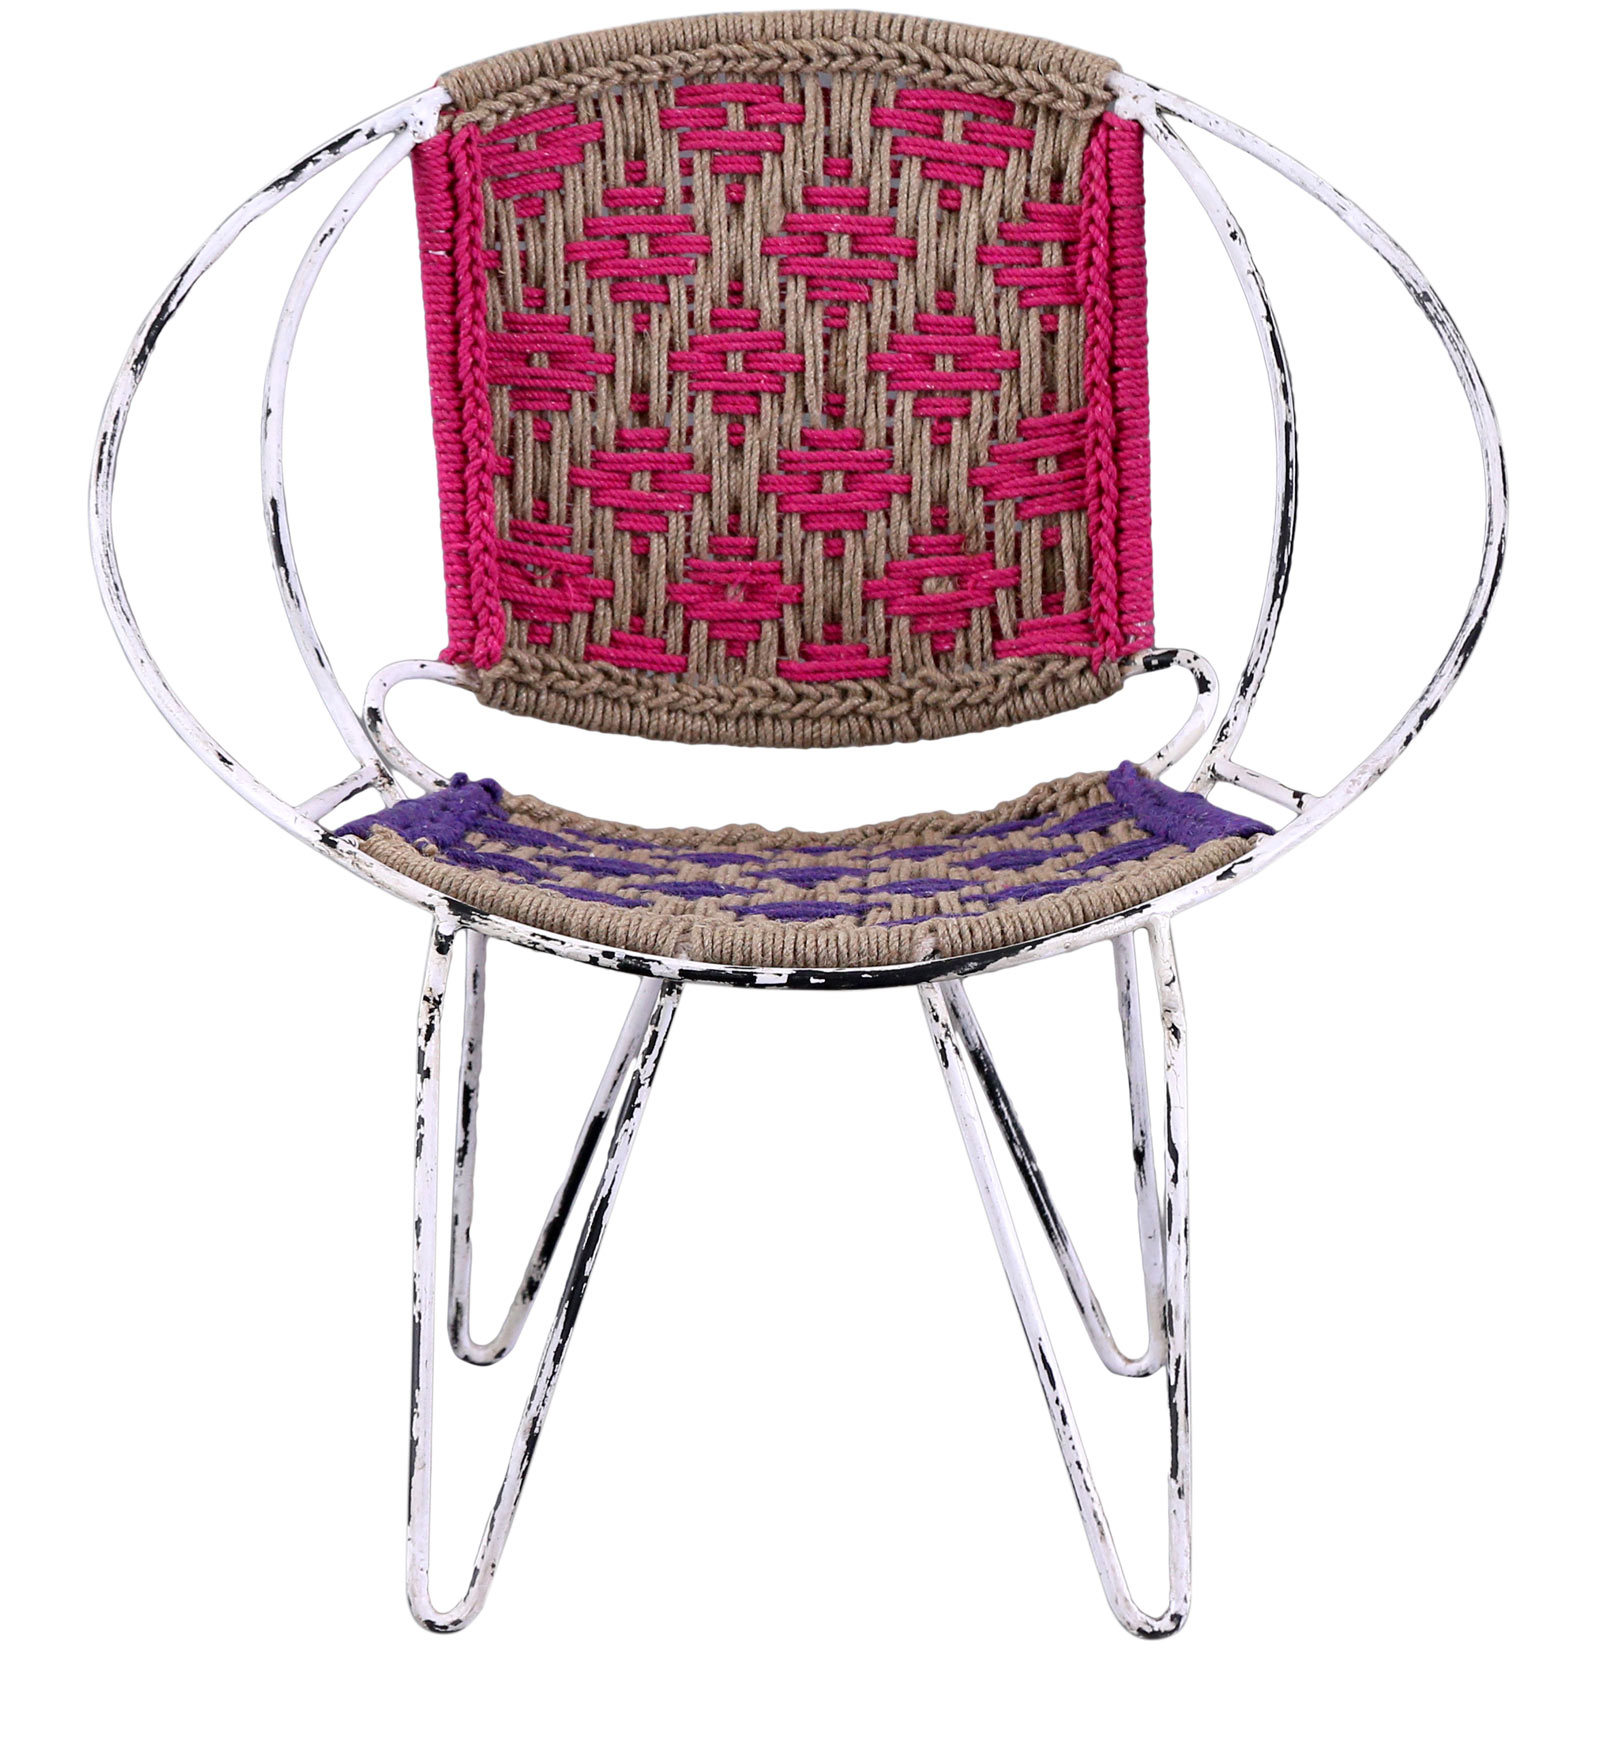Ambatovy Outdoor Chair in Multicolour by Bohemiana: (63, 8, 1522, 1696)
